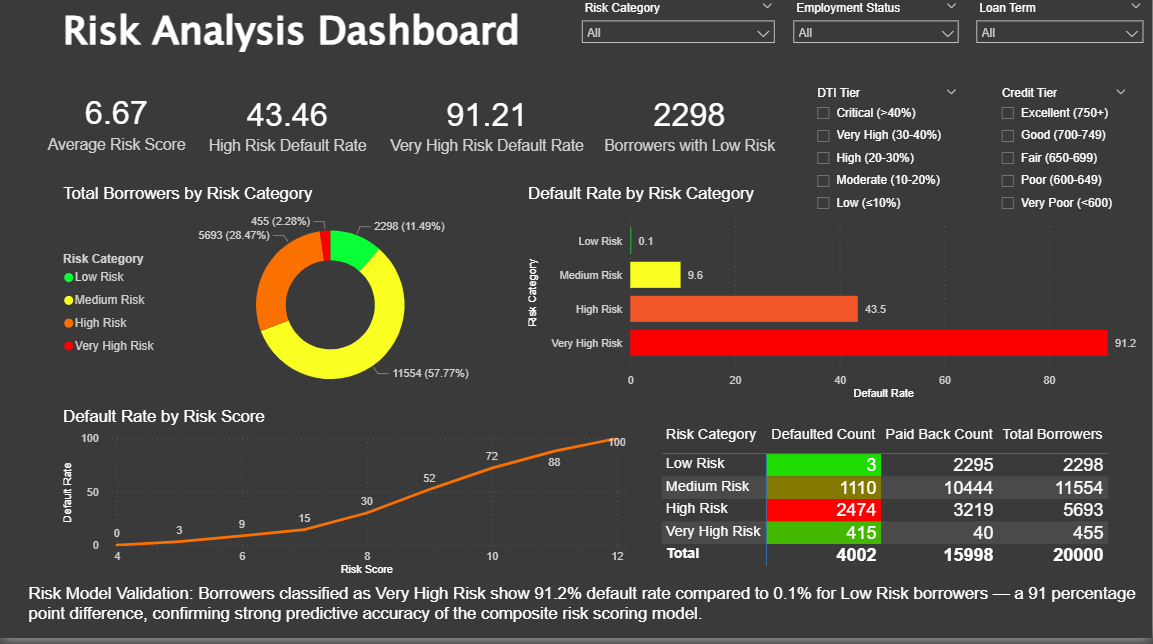

This screenshot's page, from the dashboard's own definition file:
{"tool":"powerbi","page":{"name":"Risk Analysis","canvas":[1280,720],"ordinal":1},"visuals":[{"type":"slicer","fields":{"Values":["public applicants.employment_status"]},"box":[871.7,6.4,203.6,76.3],"z":0},{"type":"slicer","fields":{"Values":["public loan_applications.loan_term"]},"box":[1075.3,6.4,205.2,76.3],"z":1000},{"type":"slicer","fields":{"Values":["public loan_applications.Risk Category"]},"box":[636.2,6.4,233.8,74.8],"z":2000},{"type":"textbox","box":[65,8.3,535,75],"z":3000},{"type":"donutChart","fields":{"Y":["_Measures.Total Borrowers"],"Category":["public loan_applications.Risk Category"]},"box":[65,215,493.3,248.3],"z":4000},{"type":"clusteredBarChart","fields":{"Y":["_Measures.Default Rate"],"Category":["public loan_applications.Risk Category"]},"box":[581.7,215,693.3,245],"z":5000},{"type":"pivotTable","fields":{"Values":["_Measures.Defaulted Count","_Measures.Paid Back Count","_Measures.Total Borrowers"],"Rows":["public loan_applications.Risk Category"]},"box":[730,478.3,510,176.7],"z":6000},{"type":"lineChart","fields":{"Y":["_Measures.Default Rate"],"Category":["public loan_applications.Risk Score"]},"box":[65,463.3,635,191.7],"z":7000},{"type":"card","fields":{"Values":["_Measures.Average Risk Score"]},"box":[26.7,90,205,110],"z":8000},{"type":"card","fields":{"Values":["_Measures.High Risk Default Rate"]},"box":[216.7,91.7,205,110],"z":9000},{"type":"card","fields":{"Values":["_Measures.Very High Risk Default Rate"]},"box":[418.3,91.7,245,110],"z":10000},{"type":"card","fields":{"Values":["_Measures.Low Risk Count"]},"box":[663.3,91.7,205,110],"z":11000},{"type":"slicer","fields":{"Values":["public financial_profile.Credit Tier"]},"box":[1100,101.7,163.3,158.3],"z":12000},{"type":"slicer","fields":{"Values":["public financial_profile.DTI Tier"]},"box":[895,101.7,180,158.3],"z":13000},{"type":"textbox","box":[26.7,655,1248.3,65],"z":14000}]}

Visuals, with their boxes in screenshot pixels (x1, y1, x2, y2), scaled from the page's 1280x720 canvas onto the 1153x644 screenshot:
slicer - public applicants.employment_status: [785,6,969,74]
slicer - public loan_applications.loan_term: [969,6,1152,74]
slicer - public loan_applications.Risk Category: [573,6,784,73]
textbox: [59,7,540,75]
donutChart - _Measures.Total Borrowers x public loan_applications.Risk Category: [59,192,503,414]
clusteredBarChart - _Measures.Default Rate x public loan_applications.Risk Category: [524,192,1148,411]
pivotTable - _Measures.Defaulted Count x _Measures.Paid Back Count: [658,428,1117,586]
lineChart - _Measures.Default Rate x public loan_applications.Risk Score: [59,414,631,586]
card - _Measures.Average Risk Score: [24,80,209,179]
card - _Measures.High Risk Default Rate: [195,82,380,180]
card - _Measures.Very High Risk Default Rate: [377,82,597,180]
card - _Measures.Low Risk Count: [597,82,782,180]
slicer - public financial_profile.Credit Tier: [991,91,1138,233]
slicer - public financial_profile.DTI Tier: [806,91,968,233]
textbox: [24,586,1148,643]
